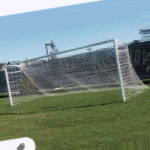goals: (1, 38, 149, 105)
